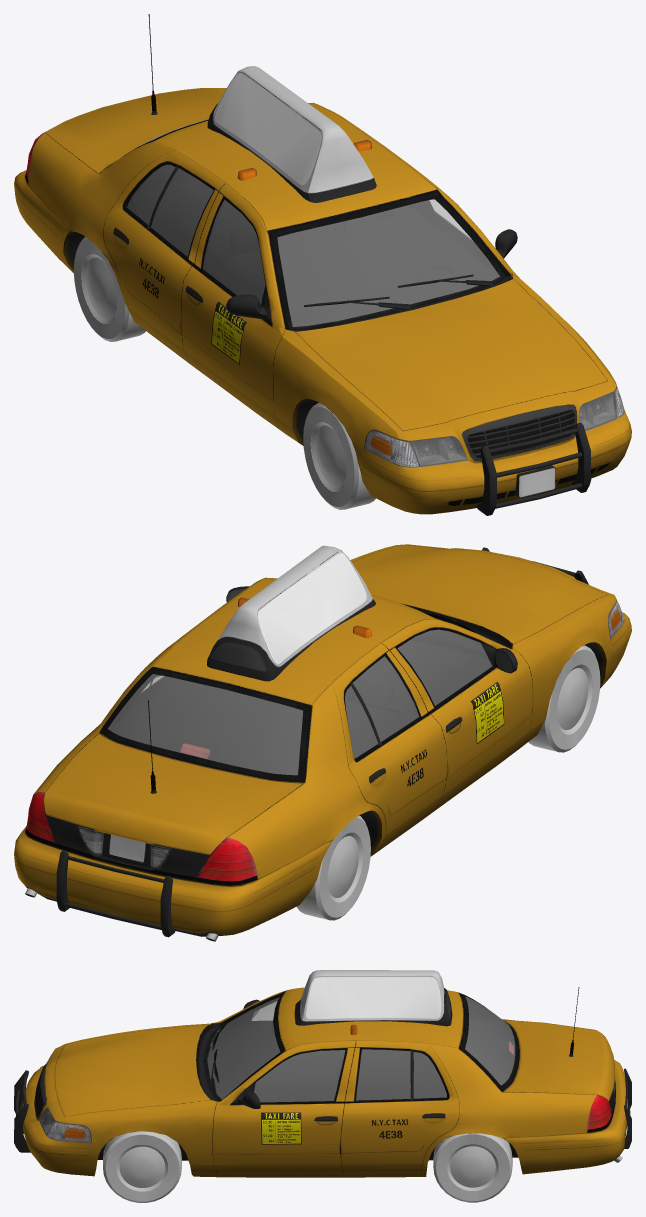
The model's file is Taxi_1.FBX.
3 renders of one model, top to bottom at view 1: azimuth 30°, elevation 25°; view 2: azimuth 150°, elevation 25°; view 3: azimuth 270°, elevation 25°, orthographic. The views are drawn at different scales.
Parts seen in each view (by area): view 1: Taxi_1_LOD0, Wheels_FR_LOD0, Wheel_RR_LOD0; view 2: Taxi_1_LOD0, Wheels_FR_LOD0, Wheel_RR_LOD0; view 3: Taxi_1_LOD0, Wheel_FL_LOD0, Wheels_RL_LOD0.
Part boxes in pixels (x1,y1,x2,y2): Taxi_1_LOD0: (14, 14, 631, 515); Wheels_FR_LOD0: (303, 403, 375, 509); Wheel_RR_LOD0: (73, 237, 145, 341); Taxi_1_LOD0: (14, 544, 631, 941); Wheels_FR_LOD0: (528, 645, 600, 752); Wheel_RR_LOD0: (296, 815, 370, 920); Taxi_1_LOD0: (14, 970, 631, 1177); Wheel_FL_LOD0: (103, 1131, 181, 1202); Wheels_RL_LOD0: (433, 1133, 512, 1202).
Size of what is drawn, in the model's own units: 2.12 by 5.45 by 1.83.
